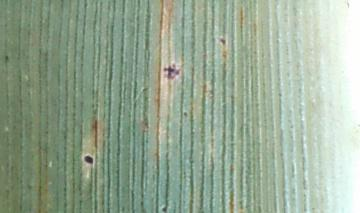tarspot: (162, 63, 180, 80), (83, 155, 94, 164), (219, 36, 226, 45), (161, 206, 168, 213), (182, 110, 188, 117), (4, 55, 9, 60)
